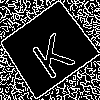K: (24, 24, 77, 81)
